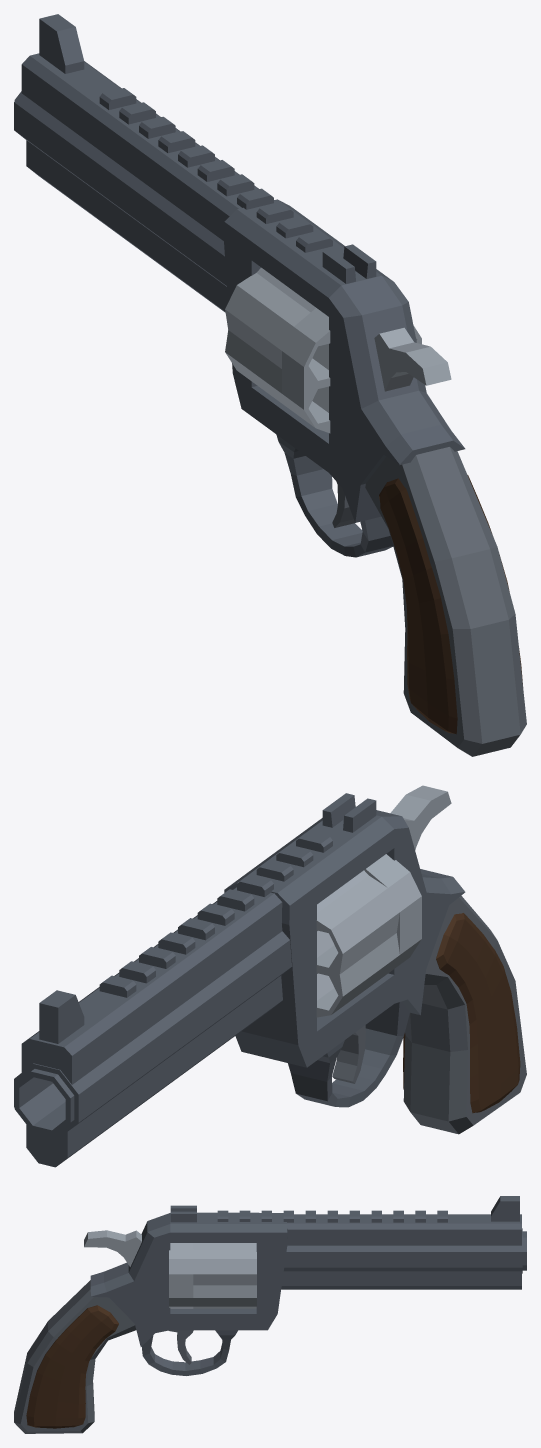
Rendered from brick.glb.
3 renders of one model, top to bottom at view 1: azimuth 30°, elevation 25°; view 2: azimuth 150°, elevation 25°; view 3: azimuth 270°, elevation 25°, orthographic. The views are drawn at different scales.
Parts seen in each view (by area): view 1: brick_mesh; view 2: brick_mesh; view 3: brick_mesh.
Part boxes in pixels (bbox=[...]): brick_mesh: bbox=[14, 14, 526, 756]; brick_mesh: bbox=[14, 785, 526, 1167]; brick_mesh: bbox=[14, 1196, 526, 1433].
Size of the model in its own units: 0.0504 by 0.1683 by 0.34.
